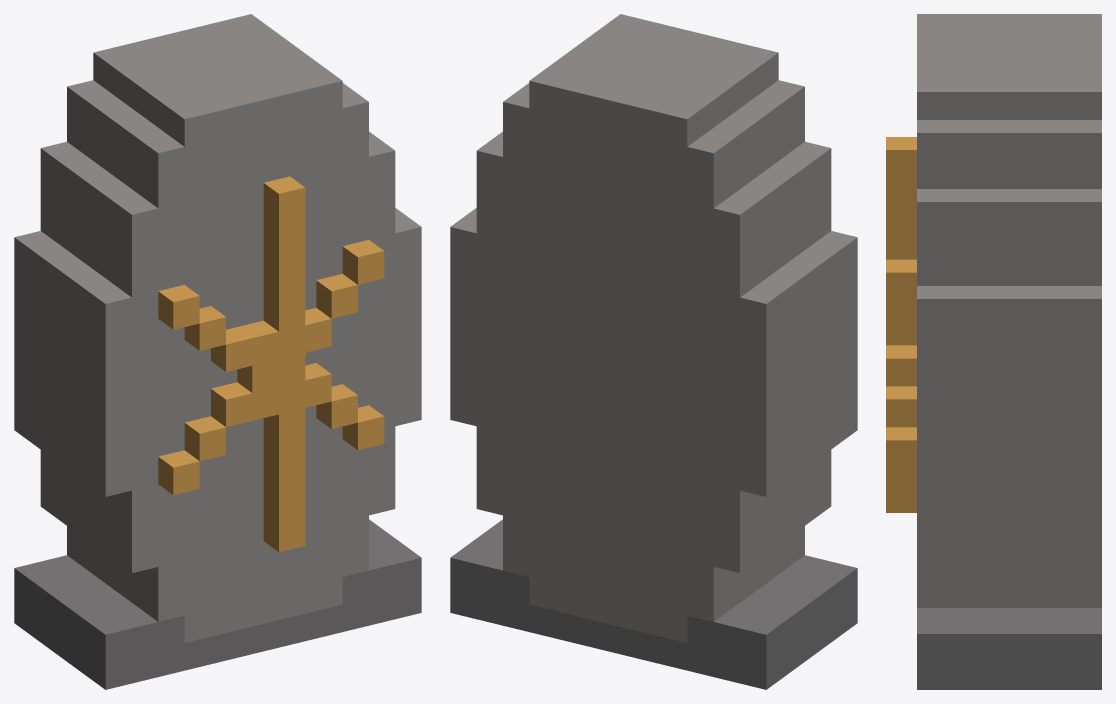
Rendered from rune_flame.glb.
3 views of the same model, side by side, from view 1: azimuth 30°, elevation 25°; view 2: azimuth 150°, elevation 25°; view 3: azimuth 270°, elevation 25° (orthographic).
Parts seen in each view (by area): view 1: rune_flame; view 2: rune_flame; view 3: rune_flame.
Part boxes in pixels (box(x1,y1,x2,y2)): rune_flame: box(14, 14, 421, 689); rune_flame: box(450, 14, 857, 689); rune_flame: box(886, 14, 1101, 689).
Size of the model in its own units: 0.144 by 0.24 by 0.084.
